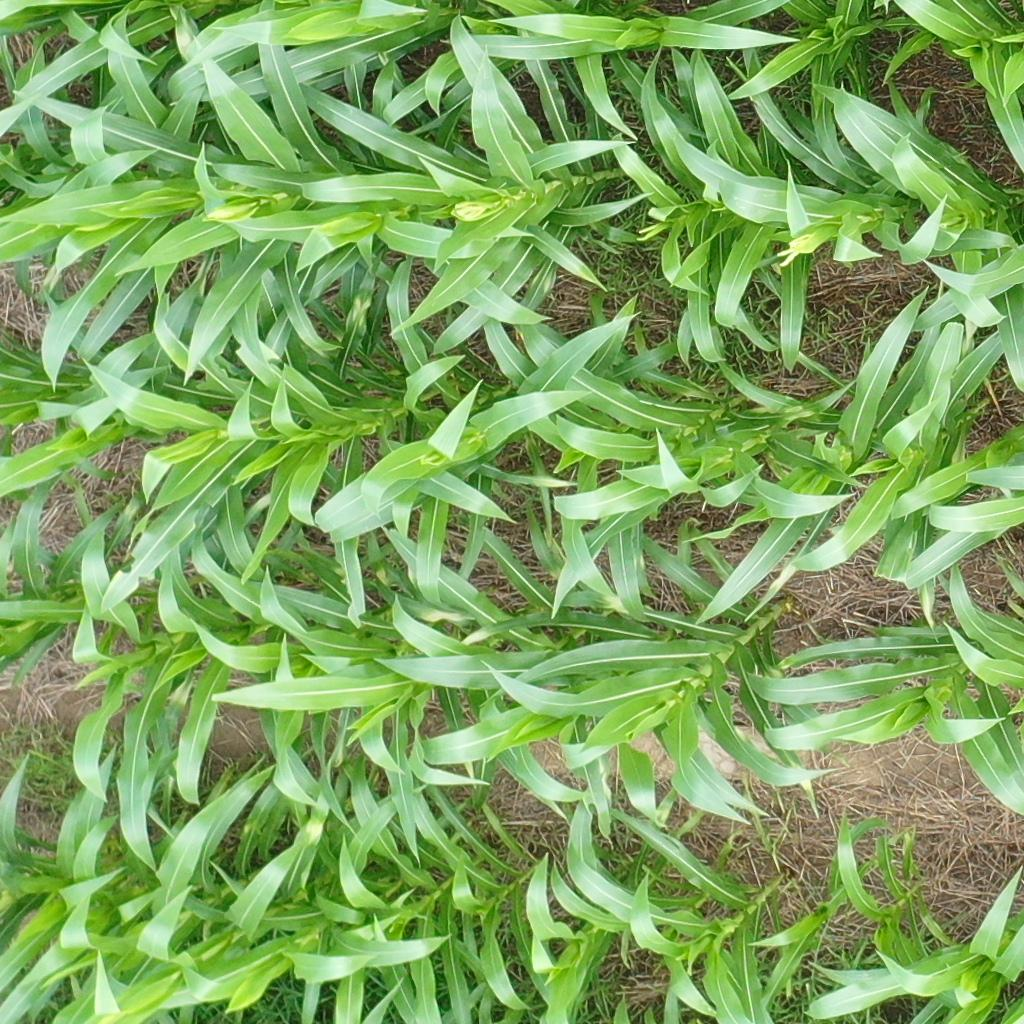Tassel: (772, 229, 814, 267), (450, 201, 490, 225), (198, 203, 241, 224)
